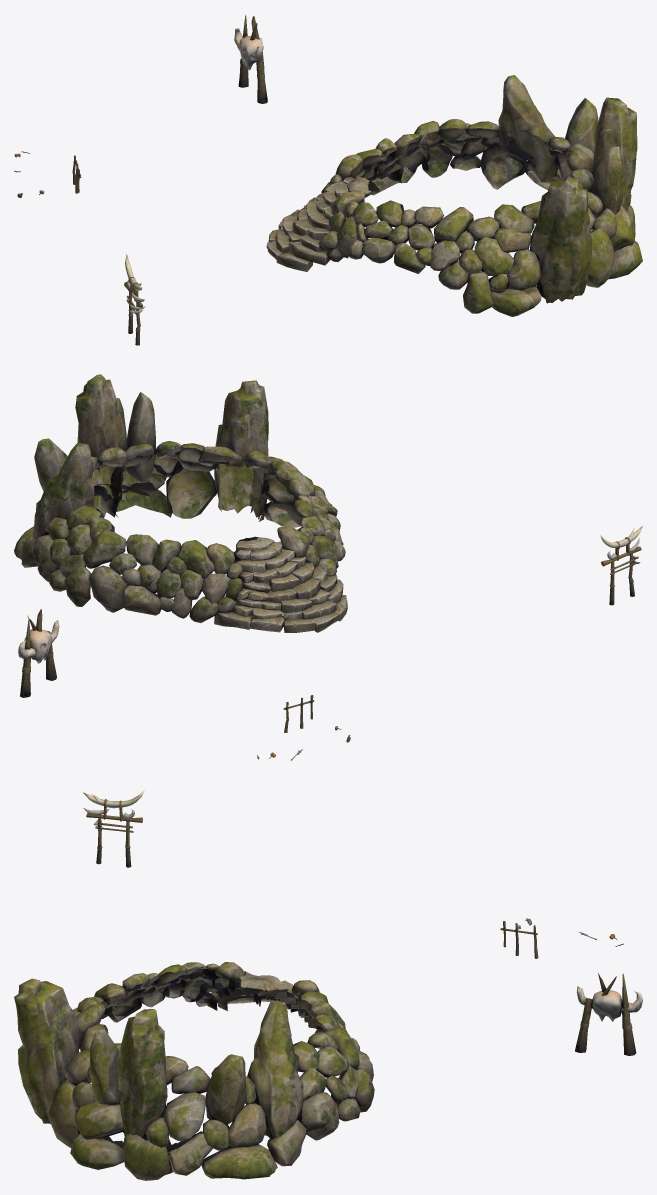
Rendered from smallprops3.glb.
3 renders of one model, top to bottom at view 1: azimuth 30°, elevation 25°; view 2: azimuth 150°, elevation 25°; view 3: azimuth 270°, elevation 25°, orthographic. The views are drawn at different scales.
Visible parts, largest first — view 1: rock_low, gate2, gate1; view 2: rock_low, gate2, gate1; view 3: rock_low, gate2, gate1.
Boxes of the visible parts, x1,y1,x2,y2 form: rock_low: (266,75,642,316); gate2: (234,14,267,103); gate1: (124,254,145,345); rock_low: (14,374,347,632); gate2: (18,609,59,697); gate1: (600,526,642,605); rock_low: (14,962,374,1180); gate2: (575,973,642,1055); gate1: (83,790,144,867).
Bounding box in the file's own units: 3817 × 1017 × 3536.
Materials: 12 (11 with a texture image).
